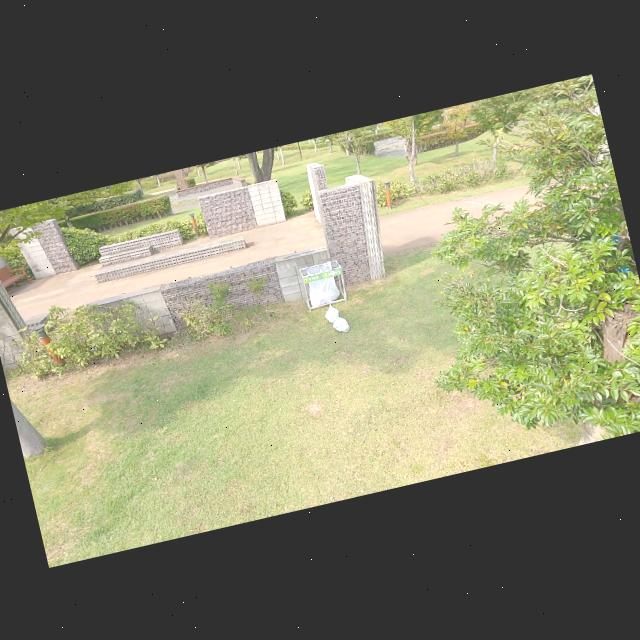trash: (329, 312, 352, 334), (320, 300, 341, 324)
